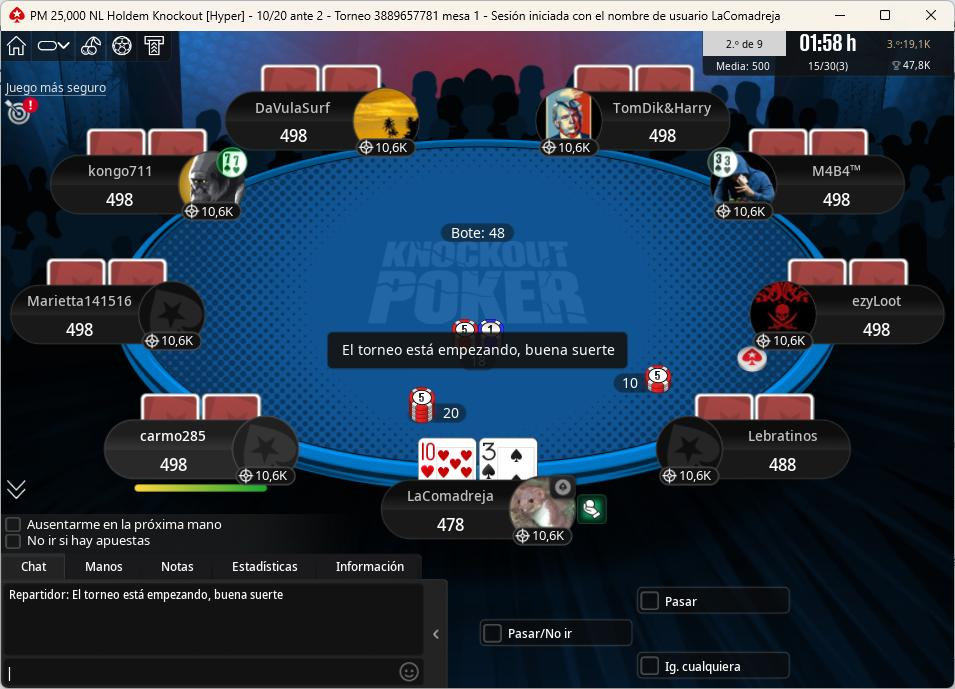HiddenCards: (136, 394, 267, 424), (693, 394, 823, 424), (85, 132, 218, 160), (575, 67, 704, 95), (748, 131, 871, 160), (784, 258, 911, 286), (42, 258, 169, 286), (260, 67, 387, 95)
Player: (706, 154, 912, 221), (748, 283, 950, 350), (653, 421, 851, 489), (103, 420, 303, 487), (49, 154, 250, 220), (223, 92, 418, 160), (544, 93, 738, 160), (8, 284, 207, 349)
PlayerBet: (612, 364, 684, 401)
PlayerChips: (765, 455, 808, 476), (859, 322, 901, 343), (151, 456, 196, 475), (60, 323, 104, 342), (640, 130, 686, 148), (816, 192, 860, 210), (273, 130, 318, 147), (101, 193, 144, 210)
Pot: (438, 224, 519, 244)
PreButtonCallAny: (632, 646, 797, 684)
PreButtonCheck: (634, 584, 796, 616)
PreButtonCheckFold: (477, 615, 635, 650)
PrincipalBet: (404, 386, 476, 428)
PrincipalCards: (415, 438, 545, 483)
PrincipalCards1: (418, 439, 477, 480)
PrincipalCards2: (480, 437, 541, 482)
PrincipalPlayer: (381, 477, 587, 553)
PrincipalPlayerChips: (431, 518, 479, 537)
SmallBigBlind: (246, 4, 334, 28)
